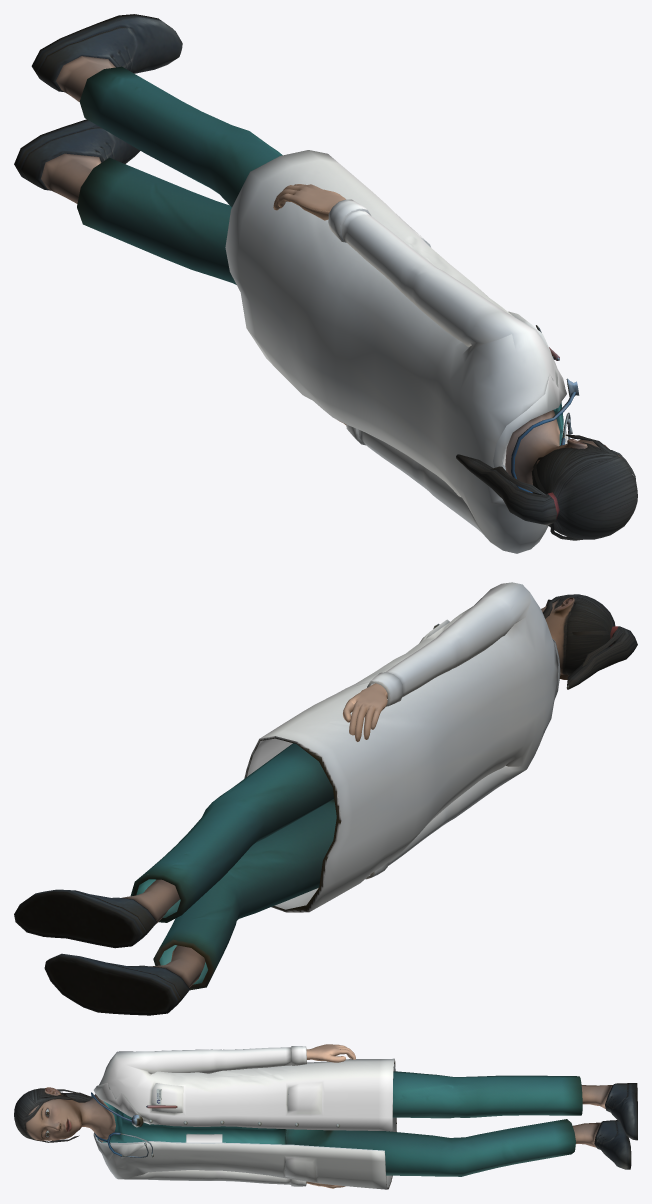
Rendered from walk.obj.
The picture shows the model from 3 angles, top to bottom: view 1: azimuth 30°, elevation 25°; view 2: azimuth 150°, elevation 25°; view 3: azimuth 270°, elevation 25°; orthographic projection. The views are drawn at different scales.
Size of the model in its own units: 0.3569 by 0.4059 by 1.72.
1 material, 1 textured.
